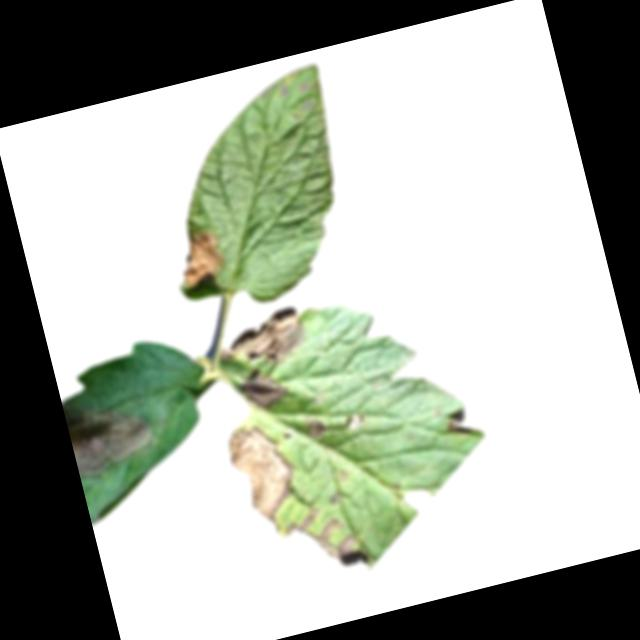Late_blight: (222, 416, 305, 529), (64, 389, 160, 477), (214, 302, 309, 372), (278, 500, 357, 570), (173, 226, 229, 288), (235, 362, 292, 417), (303, 414, 329, 442), (446, 415, 471, 440)
